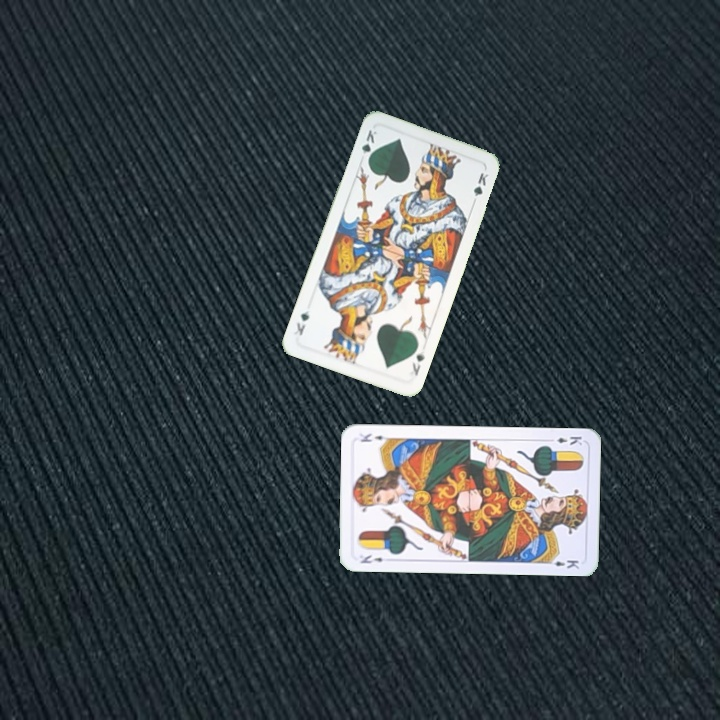EK: (544, 432, 585, 447), (356, 551, 385, 566)
GK: (357, 125, 380, 165), (408, 346, 427, 379)
